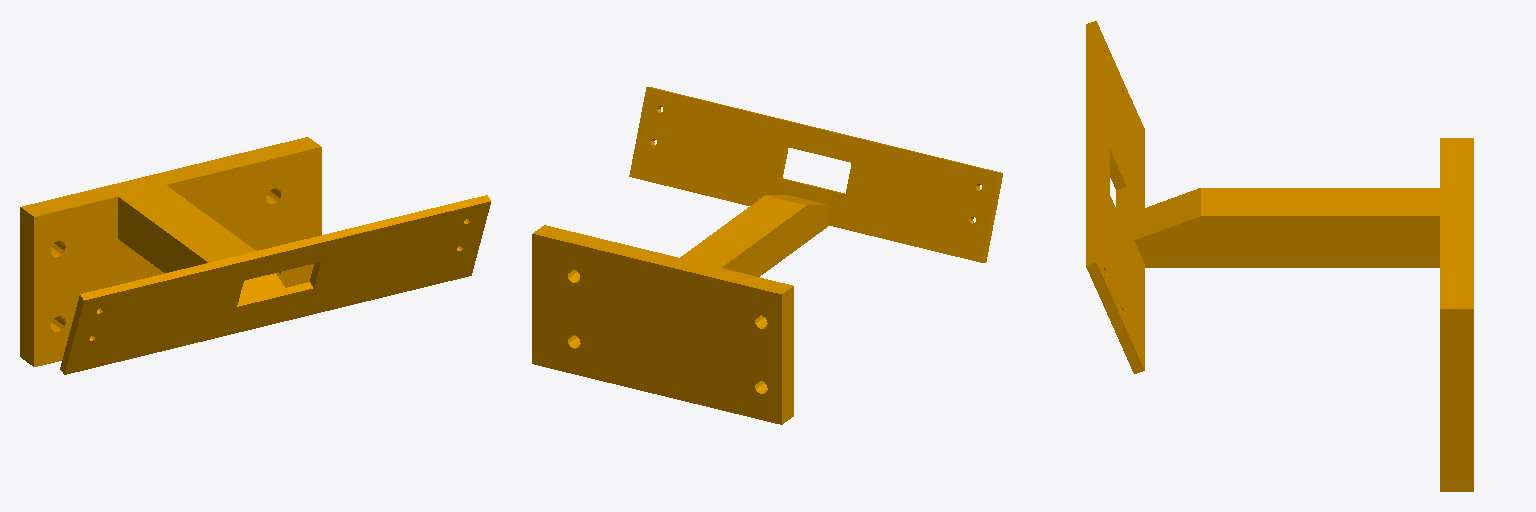
The robot description file, URDF, robot "zed2i_column":
<?xml version="1.0"?>
<!-- Written by tools/assemble.py from zed2i_column.xml: the same robot. Edit the MJCF, not this file. -->
<robot name="zed2i_column">
  <link name="camera_base_link">
    <inertial><origin xyz="0.05387736953 -0.03384369038 0.04044317171" rpy="-0.3497846198 -1.242921944 1.554166579"/><mass value="0.120253079"/><inertia ixx="0.0003603896647" ixy="0" ixz="0" iyy="0.0002533941314" iyz="0" izz="0.0001553143898"/></inertial>
    <visual><origin xyz="0 0 0" rpy="0 0 0"/><geometry><mesh filename="meshes/visual/zed2i_camera_base_link_vis.obj"/></geometry></visual>
    <collision><origin xyz="0 0 0" rpy="0 0 0"/><geometry><mesh filename="meshes/collision/zed2i_camera_base_link_col.obj"/></geometry></collision>
  </link>
</robot>

--- What the picture shows (computed from the rendered views, not written in the file) ---
Views: 3 orthographic renders of the robot side by side, from view 1: azimuth 30°, elevation 25°; view 2: azimuth 150°, elevation 25°; view 3: azimuth 270°, elevation 25°.
Robot: zed2i_column — 1 links, 0 joints (none); root link camera_base_link; default pose: every joint at zero.
Visible links, largest first — view 1: camera_base_link; view 2: camera_base_link; view 3: camera_base_link.
Link boxes in pixels (x1=…): camera_base_link: x1=20, y1=137, x2=490, y2=374; camera_base_link: x1=532, y1=87, x2=1002, y2=424; camera_base_link: x1=1086, y1=21, x2=1473, y2=491.
Bounding box of the posed robot: 0.17 × 0.1154 × 0.0798 m (x, y, z).
1 mesh visuals loaded from 1 distinct referenced files (1 OBJ).
